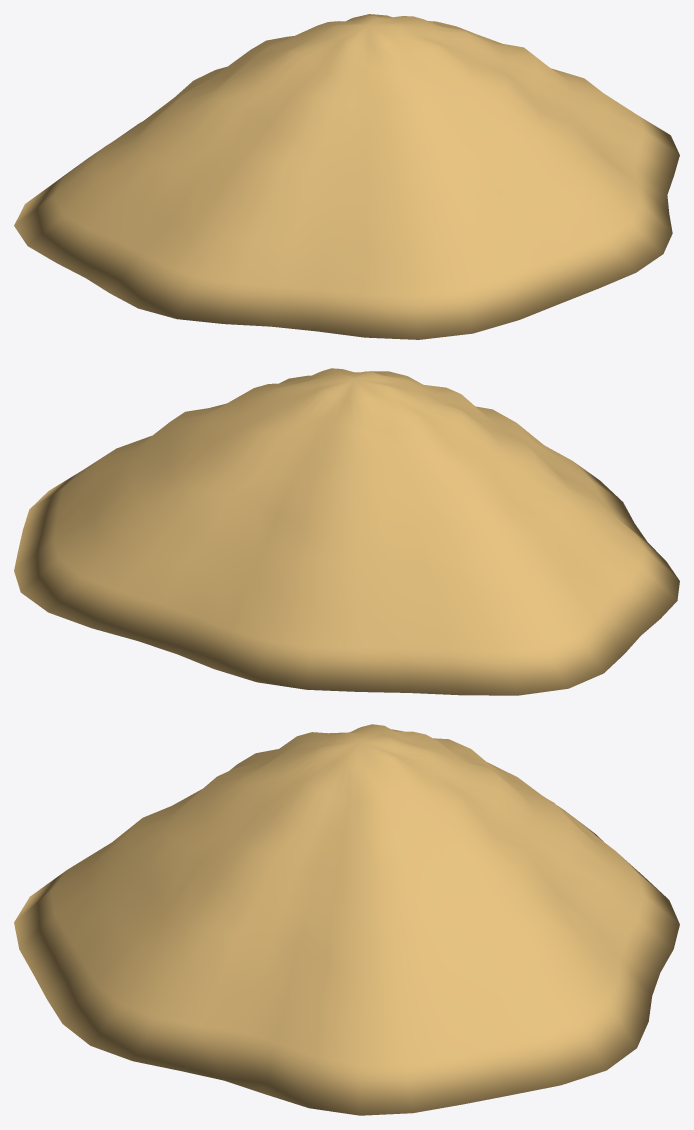
The model's file is SandPile.fbx.
The picture shows the model from 3 angles, top to bottom: view 1: azimuth 30°, elevation 25°; view 2: azimuth 150°, elevation 25°; view 3: azimuth 270°, elevation 25°; orthographic projection. The views are drawn at different scales.
Visible parts, largest first — view 1: SandMound; view 2: SandMound; view 3: SandMound.
Part boxes in pixels (left/top/right/bottom): SandMound: left=14, top=14, right=679, bottom=339; SandMound: left=14, top=368, right=679, bottom=695; SandMound: left=14, top=724, right=679, bottom=1115.
Size of the model in its own units: 2.61 by 0.77 by 2.24.
